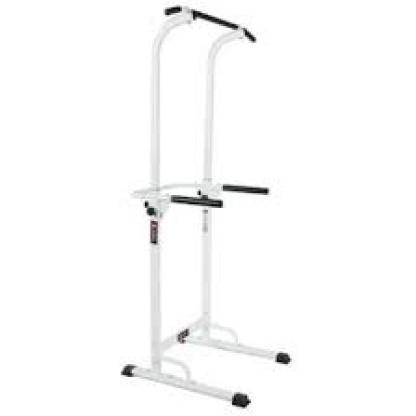chinning dipping: (121, 5, 293, 409)
